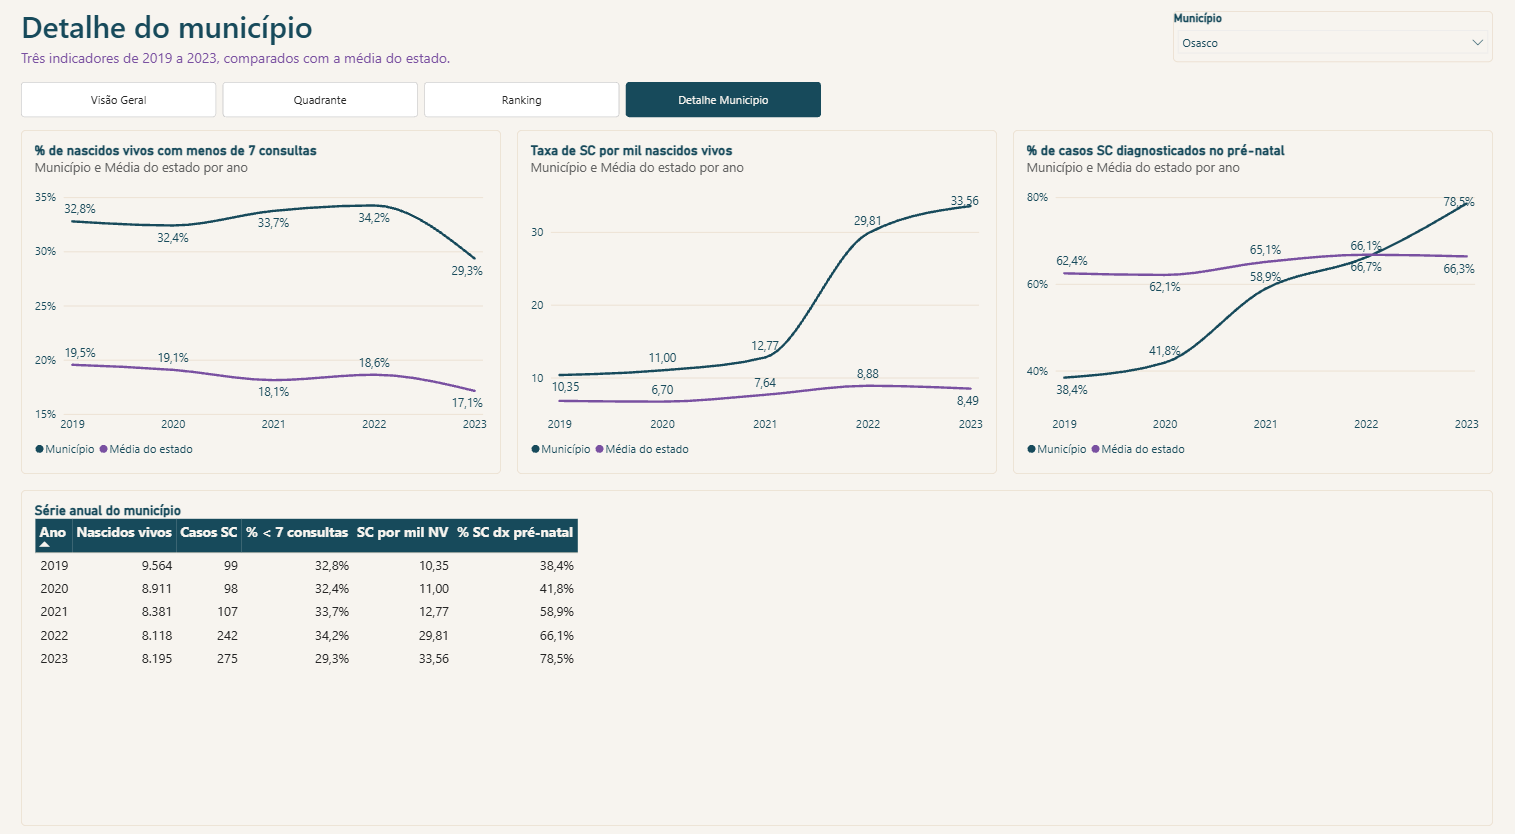

What the dashboard file says about the page in this screenshot:
{"tool":"powerbi","page":{"name":"Detalhe Municipio","canvas":[1920,1080],"ordinal":3},"visuals":[{"type":"textbox","box":[40,70,1400,30],"z":0},{"type":"textbox","box":[40,18,1300,56],"z":1000},{"type":"pageNavigator","box":[40,112,1000,44],"z":2000},{"type":"slicer","title":"Município","fields":{"Values":["tabela_final.municipio"]},"box":[1480,24,400,64],"z":3000},{"type":"lineChart","title":"% de nascidos vivos com menos de 7 consultas","fields":{"Category":["tabela_final.ano"],"Y":["tabela_final.% Menos 7 Consultas","tabela_final.Média Estado % Menos 7"]},"box":[40,172,600,430],"z":4000},{"type":"lineChart","title":"Taxa de SC por mil nascidos vivos","fields":{"Category":["tabela_final.ano"],"Y":["tabela_final.Taxa Sifilis por Mil","tabela_final.Média Estado Taxa"]},"box":[660,172,600,430],"z":5000},{"type":"lineChart","title":"% de casos SC diagnosticados no pré-natal","fields":{"Category":["tabela_final.ano"],"Y":["tabela_final.% SC Dx Pré-natal","tabela_final.Média Estado % Dx"]},"box":[1280,172,600,430],"z":6000},{"type":"tableEx","title":"Série anual do município","fields":{"Values":["tabela_final.ano","tabela_final.Nascidos Vivos","tabela_final.Casos SC","tabela_final.% Menos 7 Consultas","tabela_final.Taxa Sifilis por Mil","tabela_final.% SC Dx Pré-natal"]},"box":[40,622,1840,420],"z":7000}]}

Visuals, with their boxes in screenshot pixels (x1, y1, x2, y2), scaled from the page's 1920x1080 canvas onto the 1515x834 screenshot:
textbox: left=32, top=54, right=1136, bottom=77
textbox: left=32, top=14, right=1057, bottom=57
pageNavigator: left=32, top=86, right=821, bottom=120
"Município" slicer: left=1168, top=19, right=1483, bottom=68
"% de nascidos vivos com menos de 7 consultas" lineChart: left=32, top=133, right=505, bottom=465
"Taxa de SC por mil nascidos vivos" lineChart: left=521, top=133, right=994, bottom=465
"% de casos SC diagnosticados no pré-natal" lineChart: left=1010, top=133, right=1483, bottom=465
"Série anual do município" tableEx: left=32, top=480, right=1483, bottom=805
